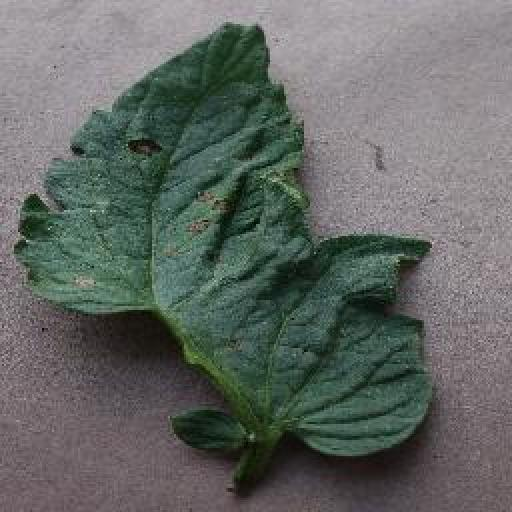Early Blight: (19, 18, 435, 462)
